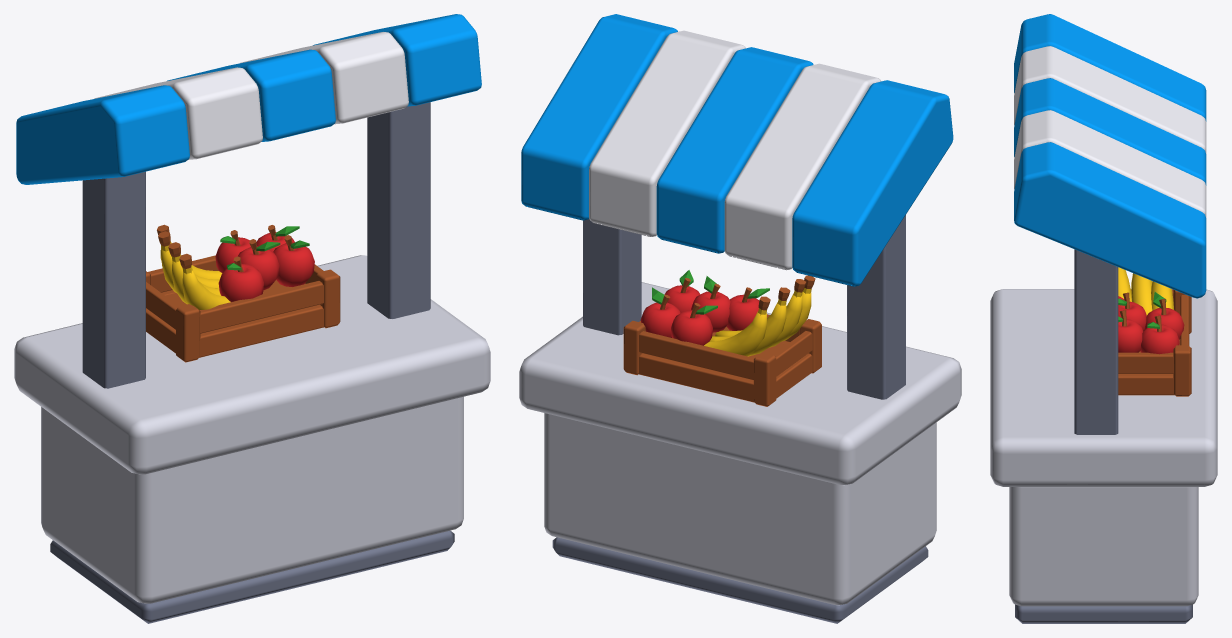
File: FruitStand.glb
The picture shows the model from 3 angles, left to right: view 1: azimuth 30°, elevation 25°; view 2: azimuth 150°, elevation 25°; view 3: azimuth 270°, elevation 25°; orthographic projection. The views are drawn at different scales.
Visible parts, largest first — view 1: M_FruitStand_PlaneBody, M_FruitStand_Metal, M_FruitStand_Awning, M_FruitStand_Stripe, M_FruitStand_Beam, M_FruitStand_ToyRed, M_FruitStand_ToyYellow; view 2: M_FruitStand_PlaneBody, M_FruitStand_Awning, M_FruitStand_Stripe, M_FruitStand_Metal, M_FruitStand_Beam, M_FruitStand_ToyRed, M_FruitStand_ToyYellow, M_FruitStand_TruckGreen; view 3: M_FruitStand_PlaneBody, M_FruitStand_Awning, M_FruitStand_Stripe, M_FruitStand_Metal, M_FruitStand_Beam, M_FruitStand_ToyRed, M_FruitStand_ToyYellow.
Boxes of the visible parts, box(x1,y1,x2,y2) form: M_FruitStand_PlaneBody: box(14, 255, 490, 603); M_FruitStand_Metal: box(50, 102, 454, 623); M_FruitStand_Awning: box(16, 14, 481, 184); M_FruitStand_Stripe: box(94, 32, 408, 159); M_FruitStand_Beam: box(146, 224, 340, 362); M_FruitStand_ToyRed: box(215, 232, 314, 301); M_FruitStand_ToyYellow: box(160, 241, 230, 309); M_FruitStand_PlaneBody: box(519, 282, 961, 605); M_FruitStand_Awning: box(521, 14, 953, 286); M_FruitStand_Stripe: box(589, 30, 881, 270); M_FruitStand_Metal: box(552, 215, 928, 623); M_FruitStand_Beam: box(623, 275, 821, 406); M_FruitStand_ToyRed: box(640, 285, 759, 345); M_FruitStand_ToyYellow: box(704, 288, 811, 356); M_FruitStand_TruckGreen: box(652, 270, 769, 314); M_FruitStand_PlaneBody: box(990, 289, 1217, 606); M_FruitStand_Awning: box(1014, 14, 1206, 298); M_FruitStand_Stripe: box(1014, 46, 1206, 217); M_FruitStand_Metal: box(1015, 249, 1192, 623); M_FruitStand_Beam: box(1118, 289, 1191, 396); M_FruitStand_ToyRed: box(1118, 296, 1184, 354); M_FruitStand_ToyYellow: box(1118, 267, 1173, 315).
Size of the model in its own units: 4.98 by 6.79 by 3.
